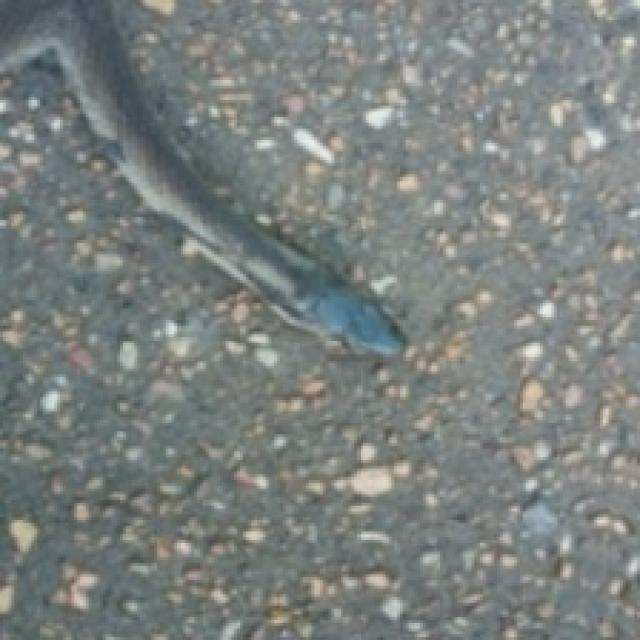reddish rat snake: (0, 0, 403, 354)
